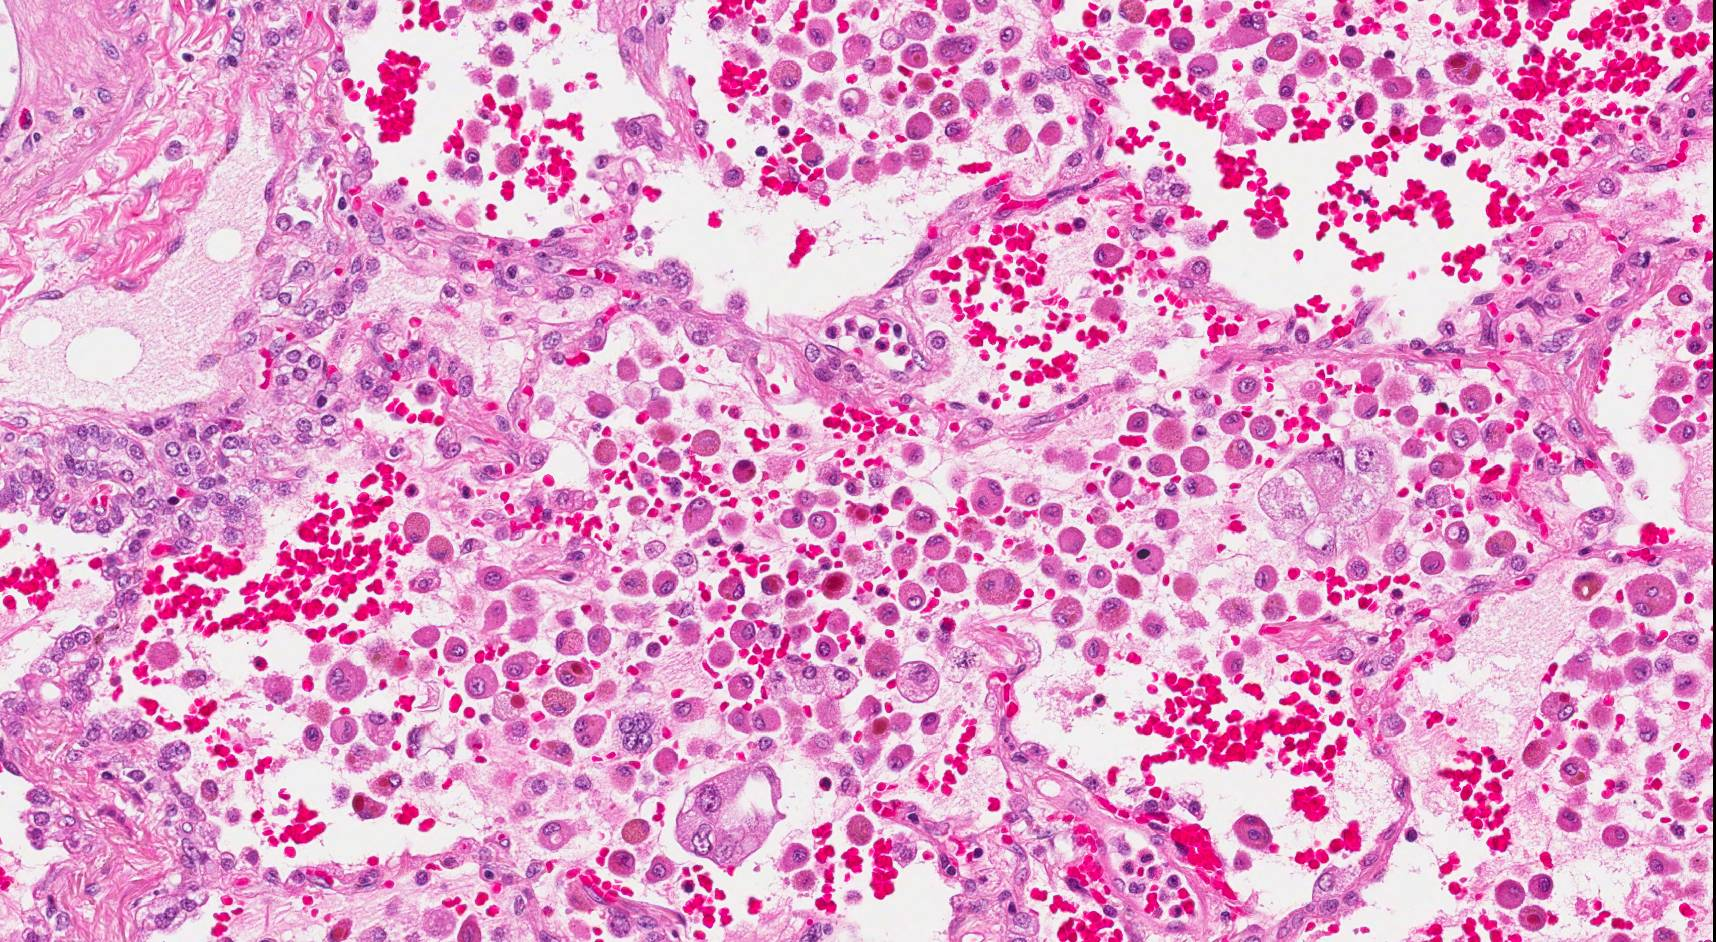stas: (1261, 433, 1406, 556), (674, 763, 785, 872)
